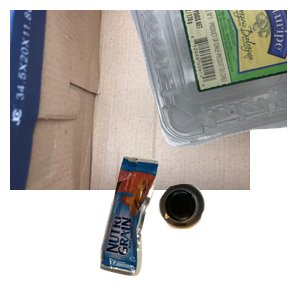cardboard: (10, 10, 250, 190)
glass: (156, 181, 300, 300)
plastic: (60, 10, 300, 149)
trash: (97, 152, 248, 300)
